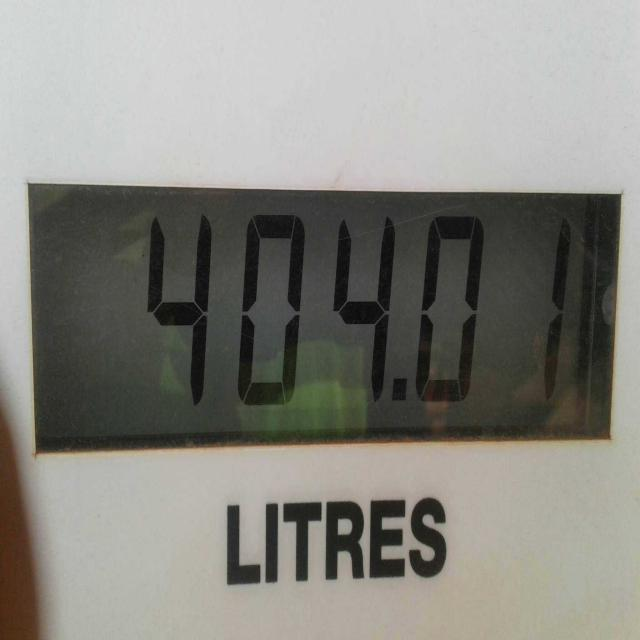.: (383, 356, 408, 424)
0: (230, 204, 324, 423), (410, 220, 491, 407)
1: (522, 207, 577, 426)
4: (136, 193, 220, 422), (326, 215, 405, 416)
